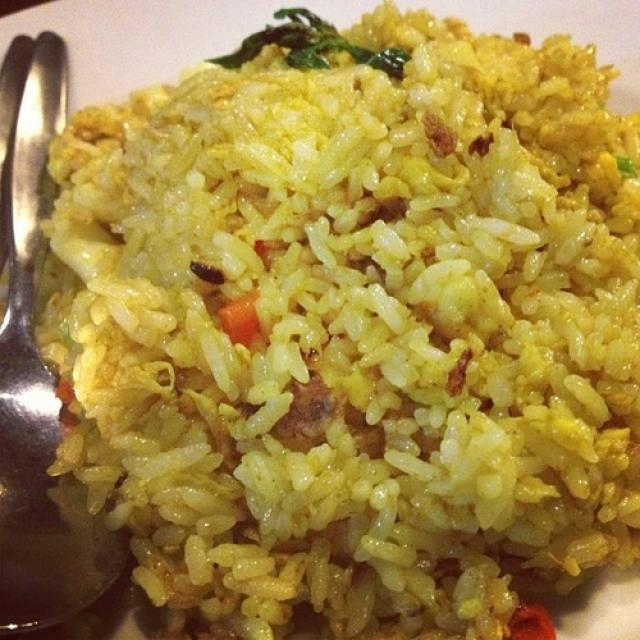米饭主食: (30, 13, 613, 613)
